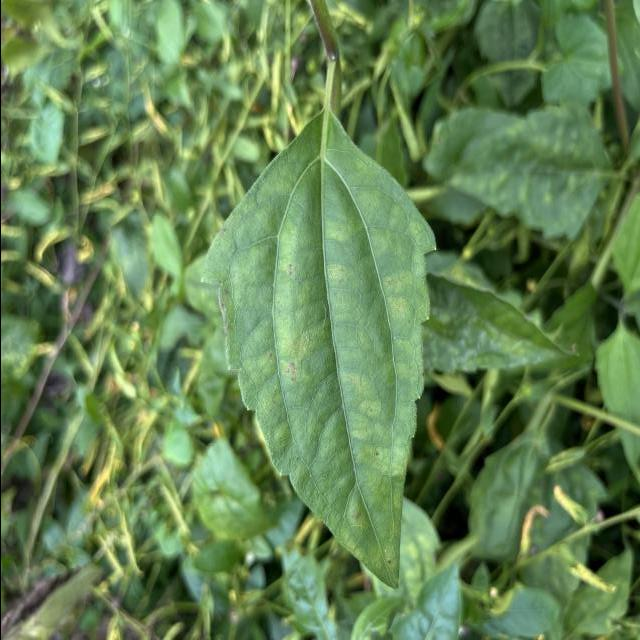Chromolaena odorata: (195, 107, 439, 596)
